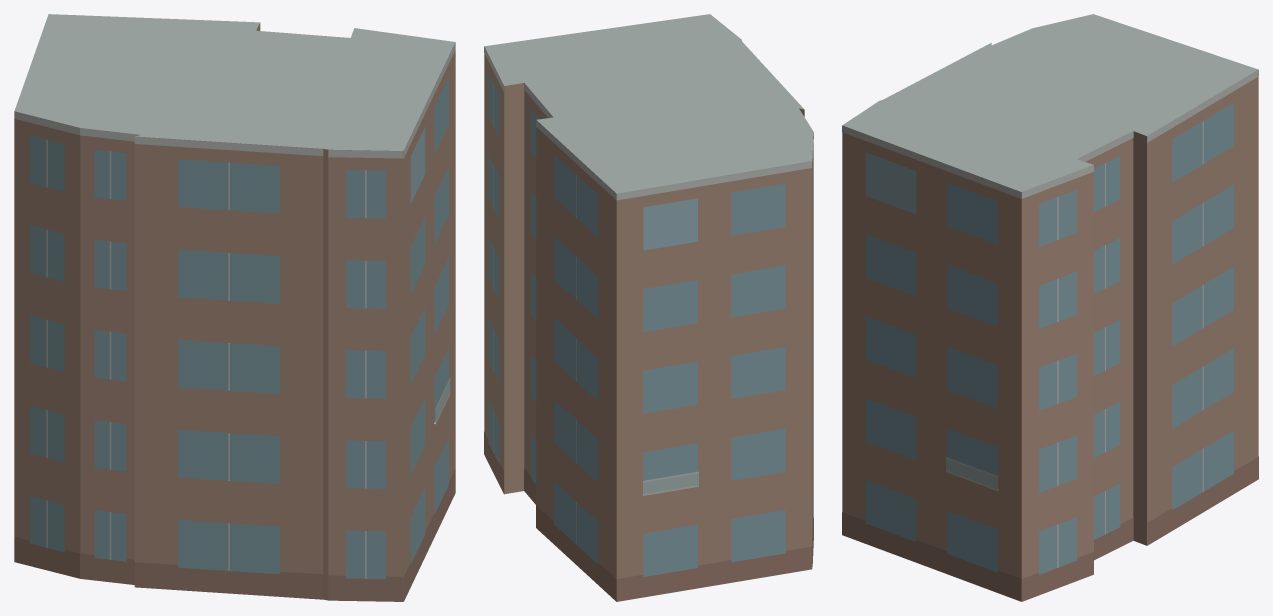
File: survey-upis-32840317.glb
The picture shows the model from 3 angles, left to right: view 1: azimuth 30°, elevation 25°; view 2: azimuth 150°, elevation 25°; view 3: azimuth 270°, elevation 25°; orthographic projection. The views are drawn at different scales.
Parts seen in each view (by area): view 1: survey-upis-32840317.tmp; view 2: survey-upis-32840317.tmp; view 3: survey-upis-32840317.tmp.
Boxes of the visible parts, x1,y1,x2,y2 form: survey-upis-32840317.tmp: [14, 14, 455, 601]; survey-upis-32840317.tmp: [484, 14, 813, 601]; survey-upis-32840317.tmp: [842, 14, 1258, 601].
Size of the model in its own units: 13.72 by 14.7 by 13.55.
